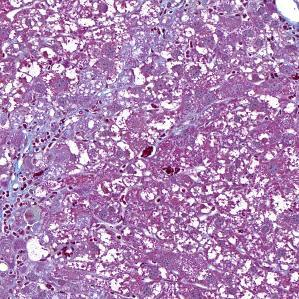fibrosis: (11, 151, 56, 234)
